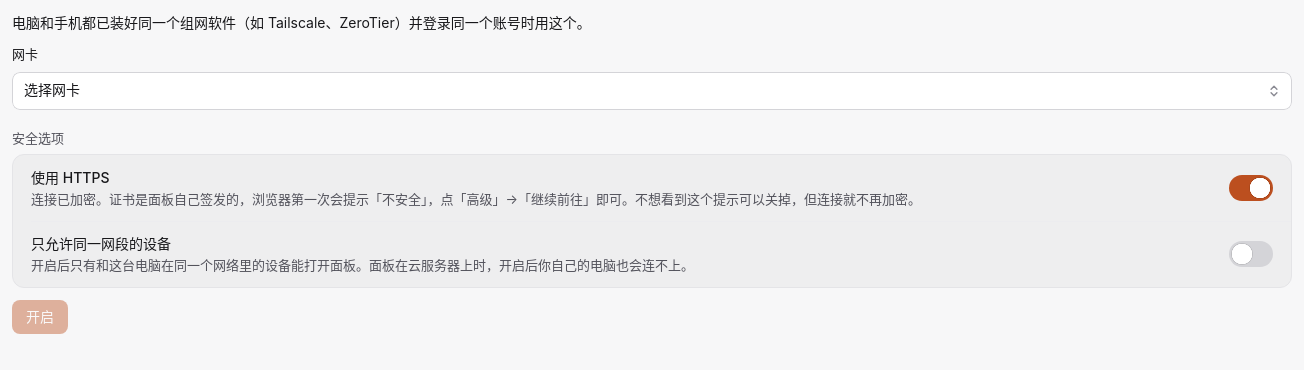
Test: overlay interface: with no interface at open and one appearing later, the dropdown says "Choose an interface" instead of displaying the first interface
This screenshot has width=1304, height=370.
Expected: the button "开启" is disabled, [12,300,68,334]
Select "Tailscale（100.64.0.2）" in the dropdown labelled "网卡": (652, 90) [12,72,1292,110]
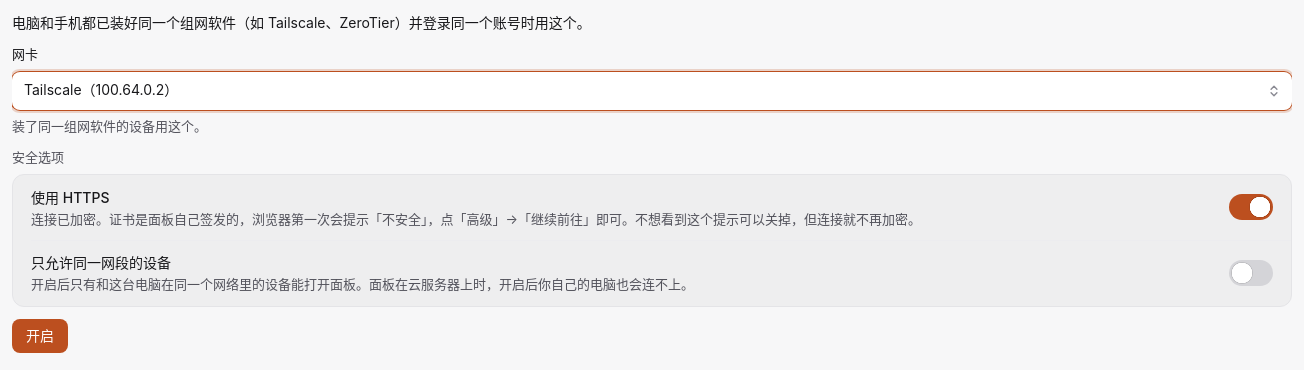
Expected: the button "开启" is enabled, [12,319,68,353]
